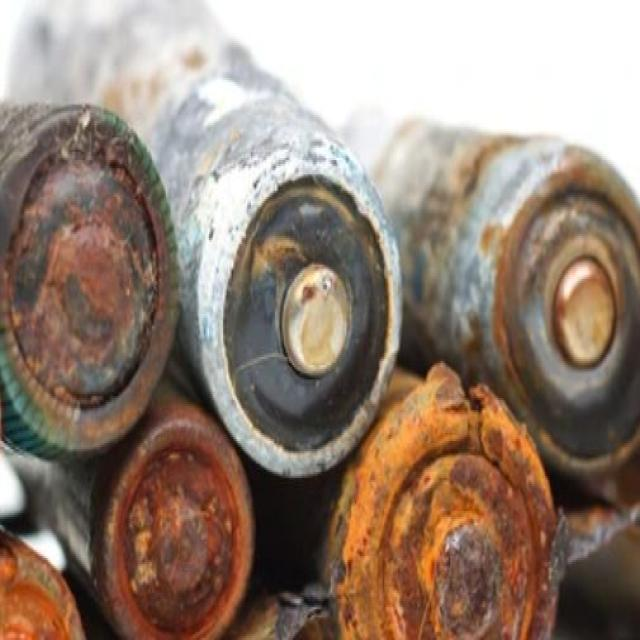electronic: (4, 3, 407, 491)
